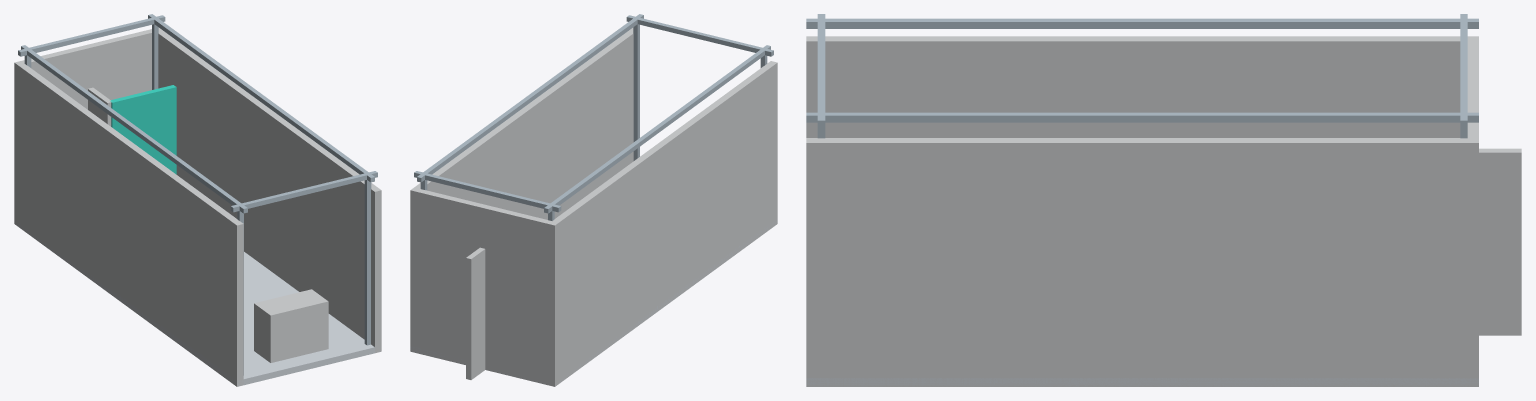
The picture shows the model from 3 angles, left to right: view 1: azimuth 30°, elevation 25°; view 2: azimuth 150°, elevation 25°; view 3: azimuth 270°, elevation 25°; orthographic projection. The views are drawn at different scales.
Visible parts, largest first — view 1: Exhibition Booth Concept; view 2: Exhibition Booth Concept; view 3: Exhibition Booth Concept.
Boxes of the visible parts, <box> form: Exhibition Booth Concept: <box>14,14,381,386</box>; Exhibition Booth Concept: <box>410,14,777,386</box>; Exhibition Booth Concept: <box>806,14,1521,386</box>.
Bounding box in the file's own units: 3 × 3.49 × 8.51.
